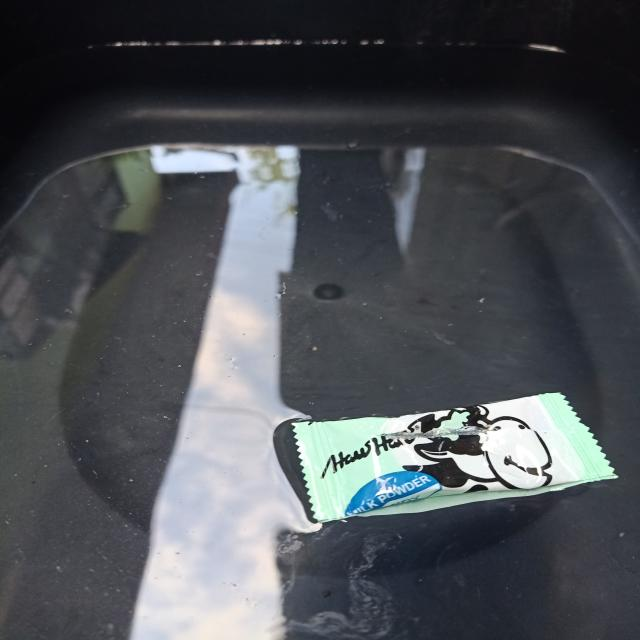Plastic Wrapper: (275, 393, 616, 522)
